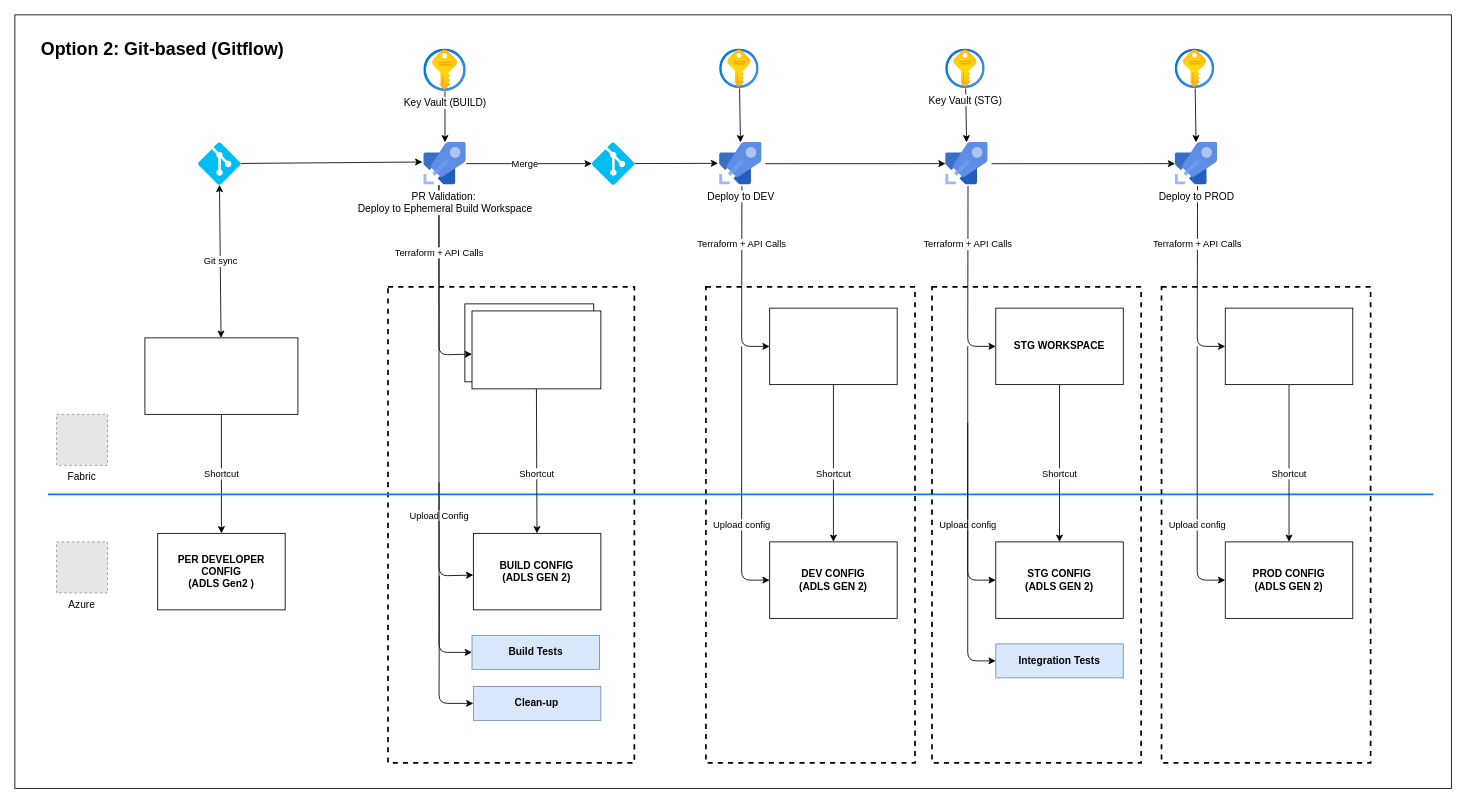
Image size: 1466x803. Some labels were removed from this diagram. Grey dashed boxes stand in for pictures. Here are the shapes that lost their labels. From the top down, the centre of each, then its label:
(739,68): Key Vault (DEV)
(1194,68): Key Vault (PROD)
(219,163): Feature Branches
(612,163): main
(966,163): Deploy to STG
(536,349): EPHEMERAL BUILD WORKSPACE
(833,346): DEV WORKSPACE
(1288,346): PROD WORKSPACE
(221,375): FEATURE / DEVELOPER WORKSPACE
